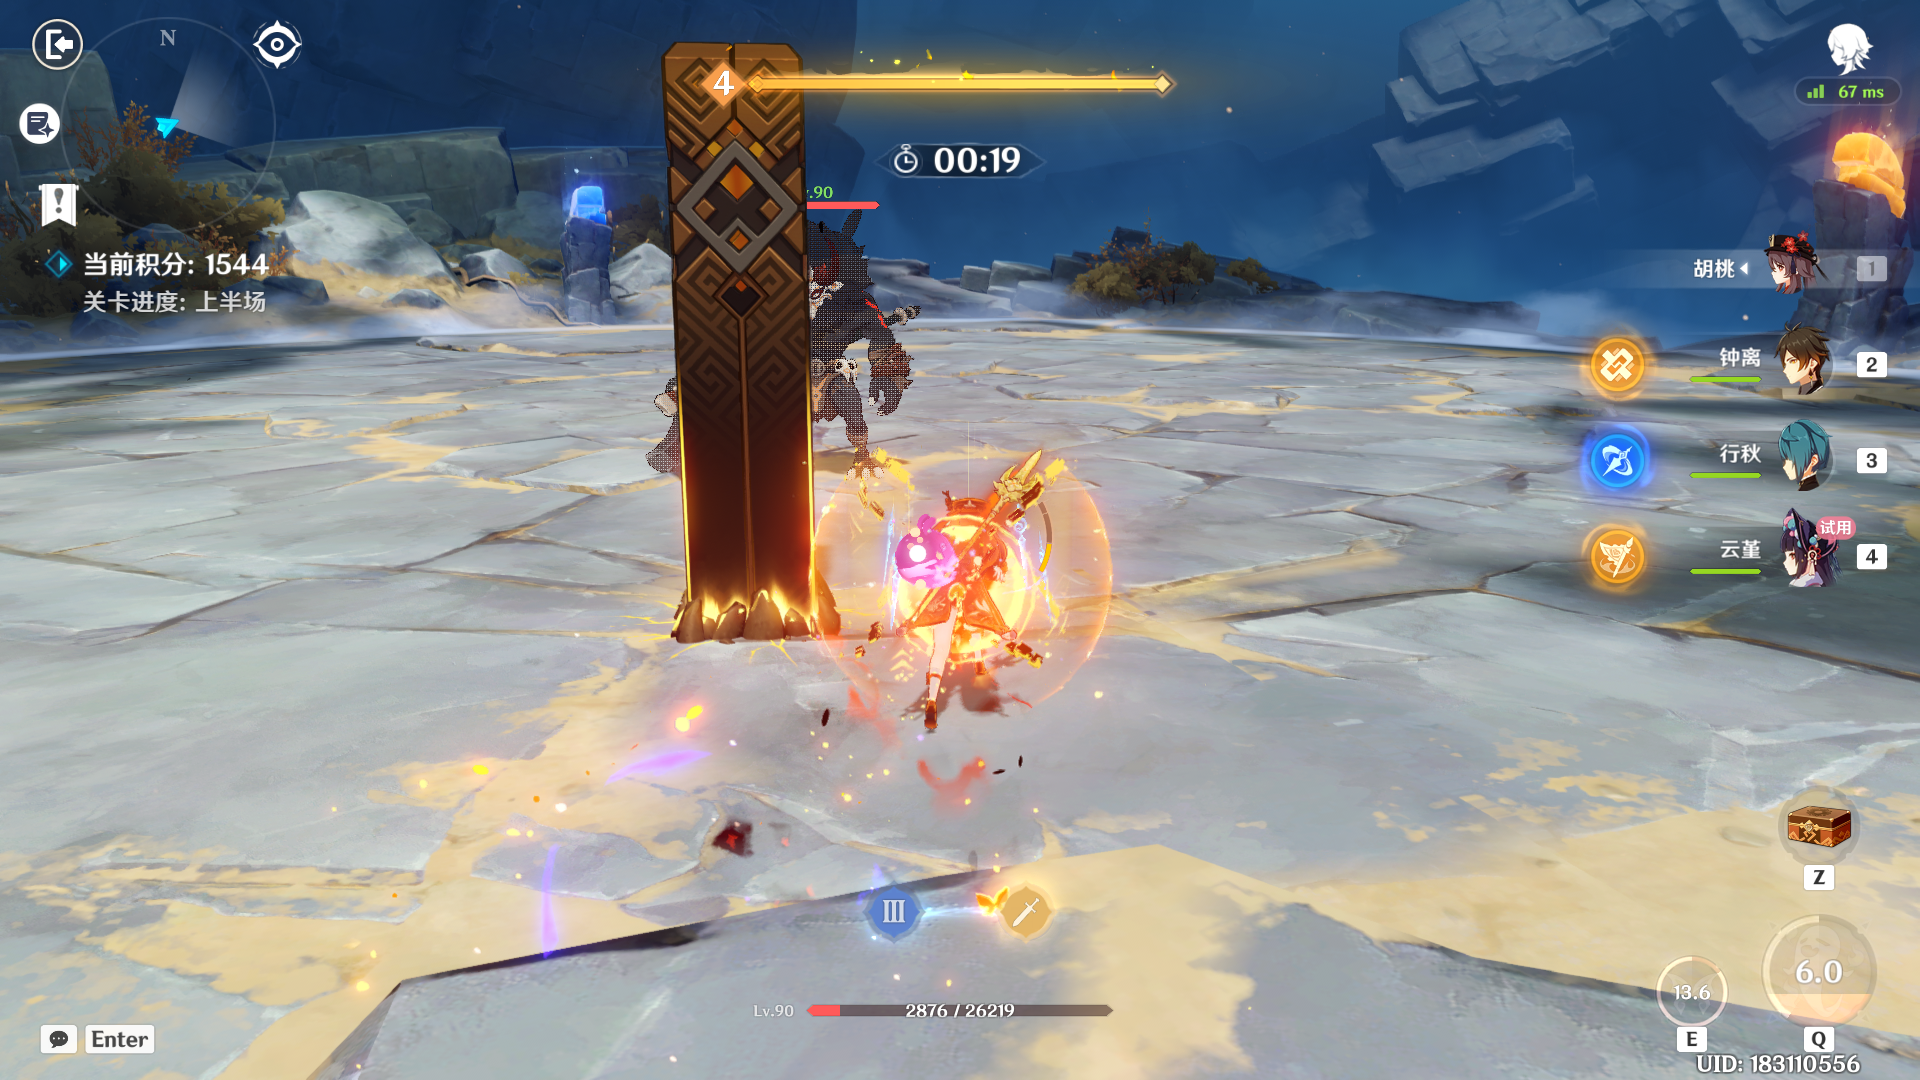bighili: (618, 185, 926, 475)
character: (862, 433, 1063, 750)
